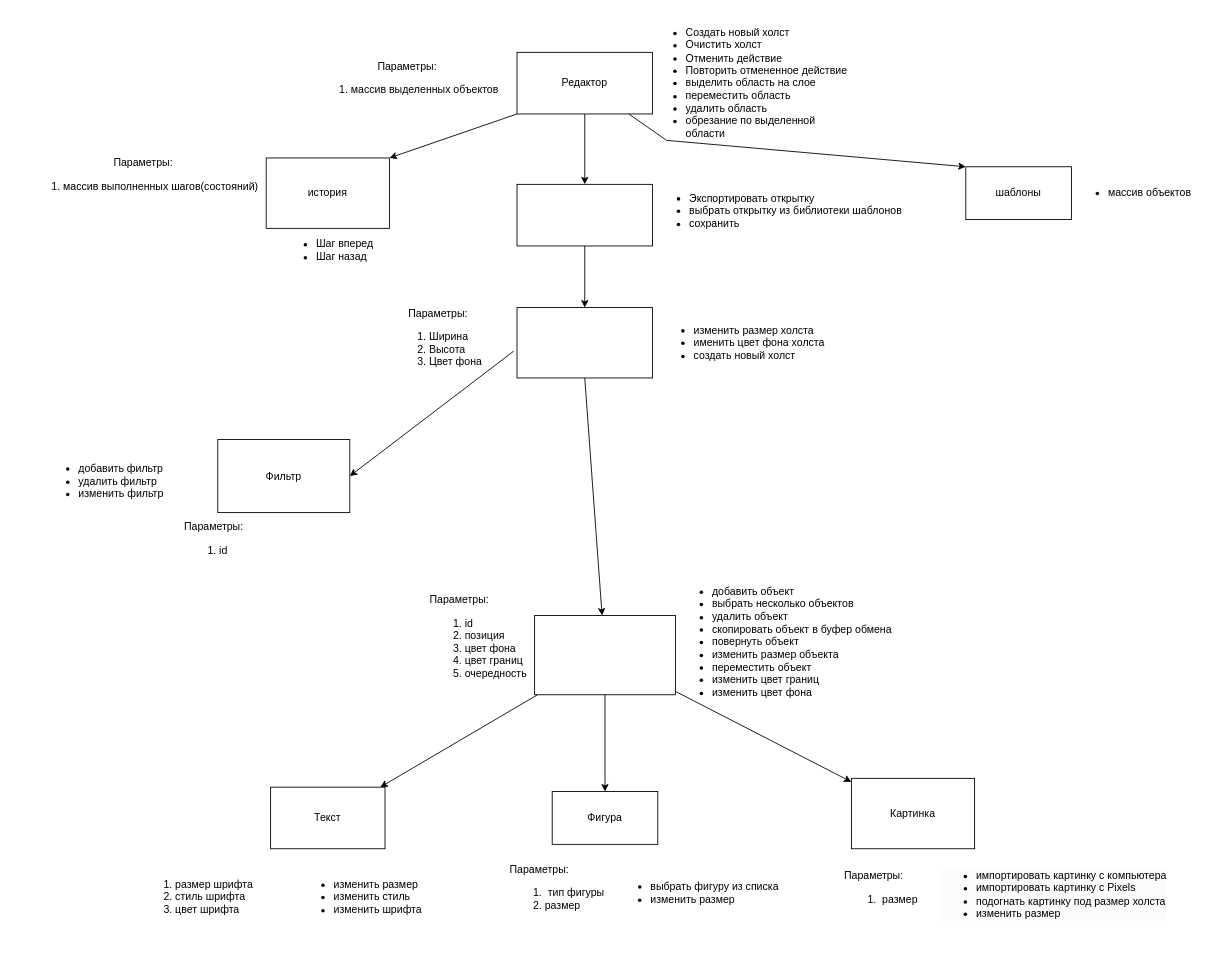
The diagram is 1227 pixels wide and 964 high, and some of its shapes have lost their labels. Each missing label, with the box of its shape:
Объекты: (534, 615, 675, 695)
Открытка: (516, 183, 653, 246)
Холст: (516, 307, 653, 378)
